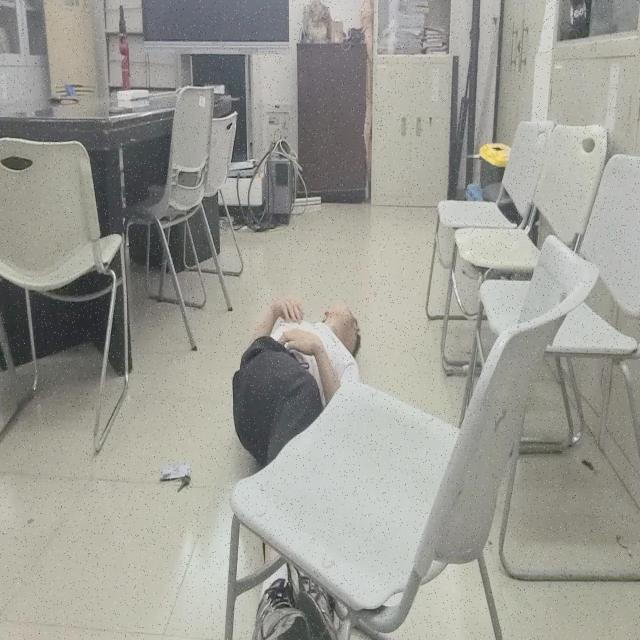fall: (228, 296, 364, 640)
